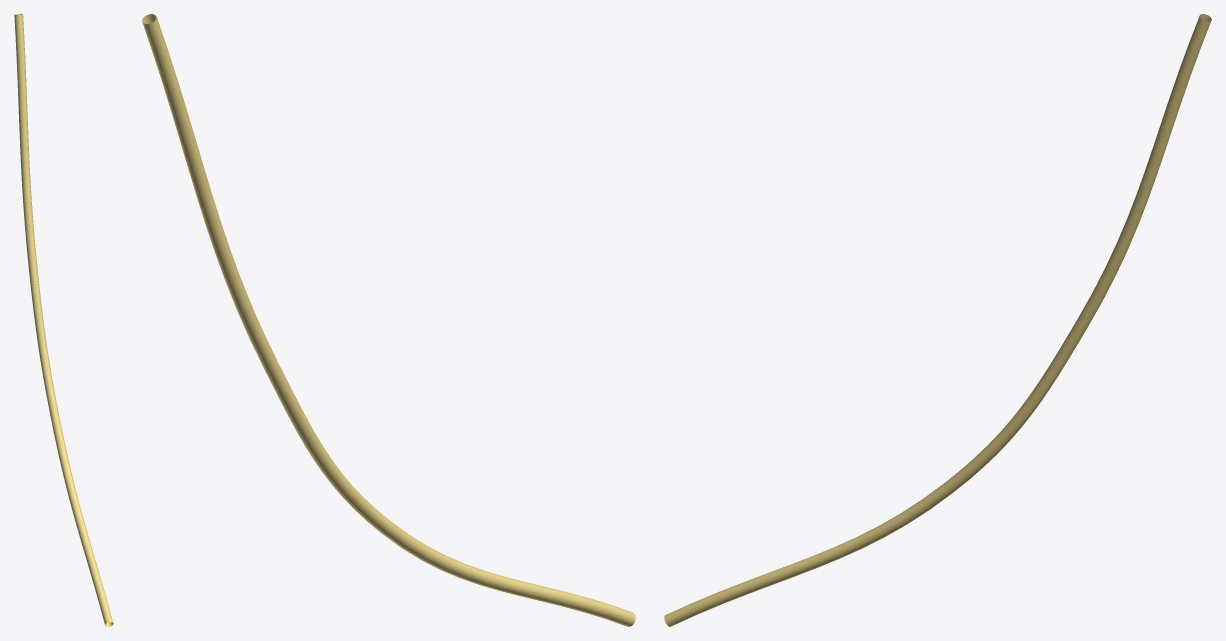
The picture shows the model from 3 angles, left to right: view 1: azimuth 30°, elevation 25°; view 2: azimuth 150°, elevation 25°; view 3: azimuth 270°, elevation 25°; orthographic projection. The views are drawn at different scales.
Parts seen in each view (by area): view 1: ZA_8f3d76272497646c; view 2: ZA_8f3d76272497646c; view 3: ZA_8f3d76272497646c.
Part boxes in pixels (x1,y1,x2,y2): ZA_8f3d76272497646c: (14,14,113,626); ZA_8f3d76272497646c: (142,14,635,626); ZA_8f3d76272497646c: (664,14,1211,626).
Bounding box in the file's own units: 0.013 × 0.0574 × 0.0421.
